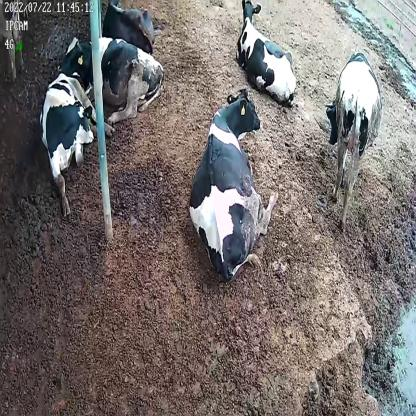cow: (190, 86, 278, 279), (326, 51, 383, 232), (54, 36, 166, 127), (40, 72, 115, 206), (235, 1, 298, 105)
